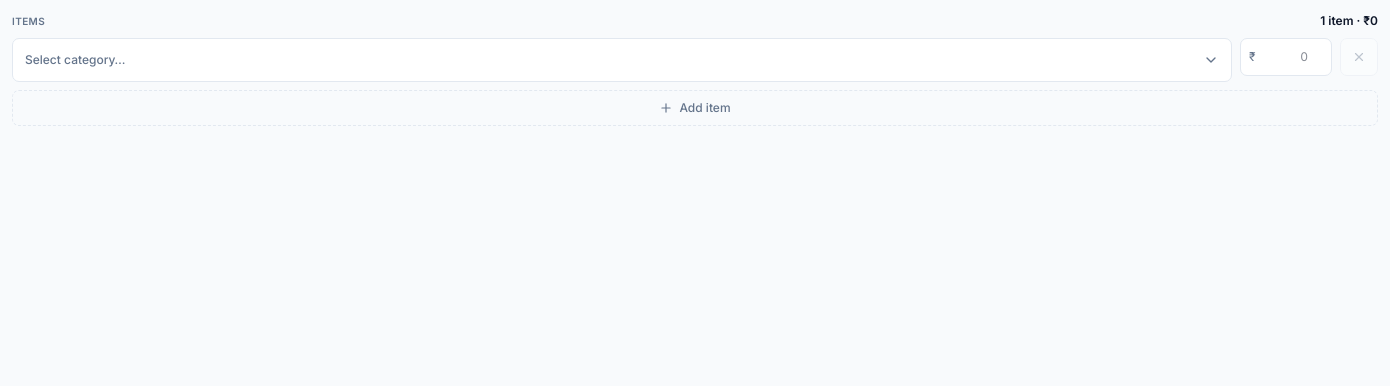
MultiItemExpenseForm — placing a new item under an existing subcategory › cancelling the "place under" step returns to the normal picker without creating anything
Click the button "Select category…" at (75,60), box 12,38 -> 1232,82
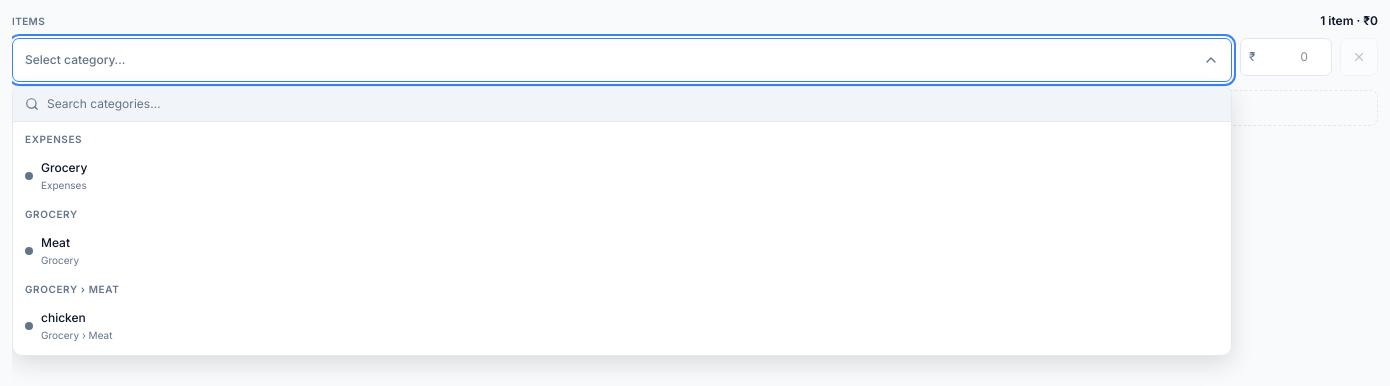
Type "egg" into the field with placeholder "Search categories…" at (633,104), box 47,95 -> 1219,113
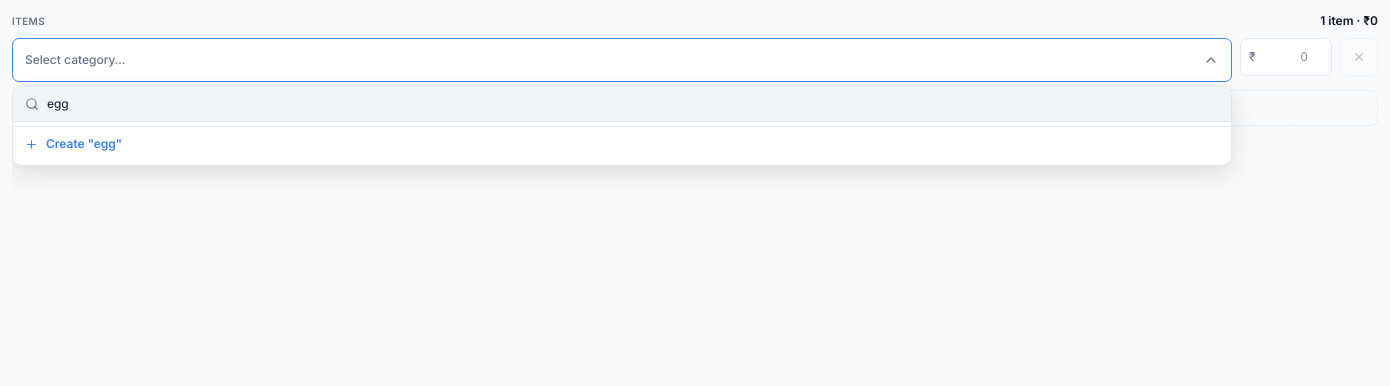
Click the button "Create \"egg\"" at (84,144), box 13,126 -> 1231,161
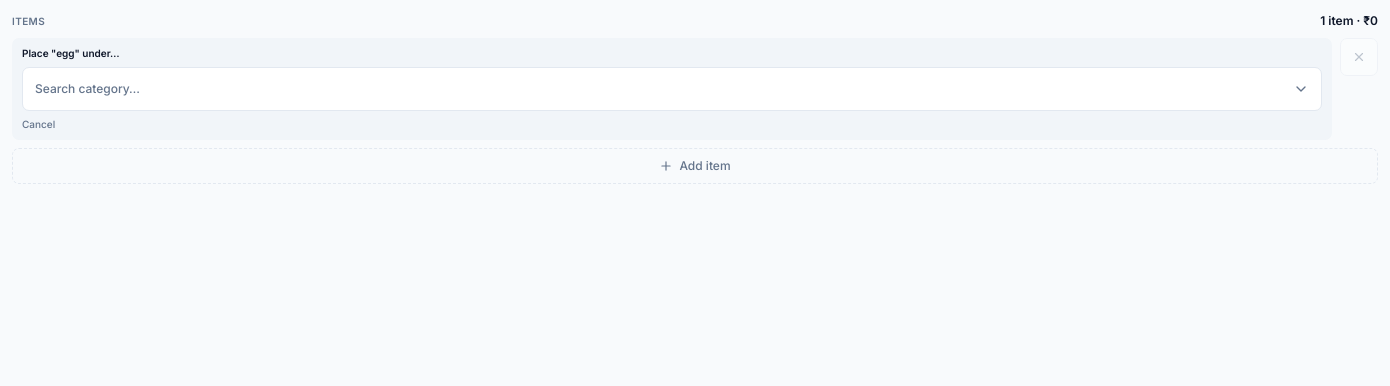
Click the button "Cancel" at (39,124), box 22,117 -> 55,132
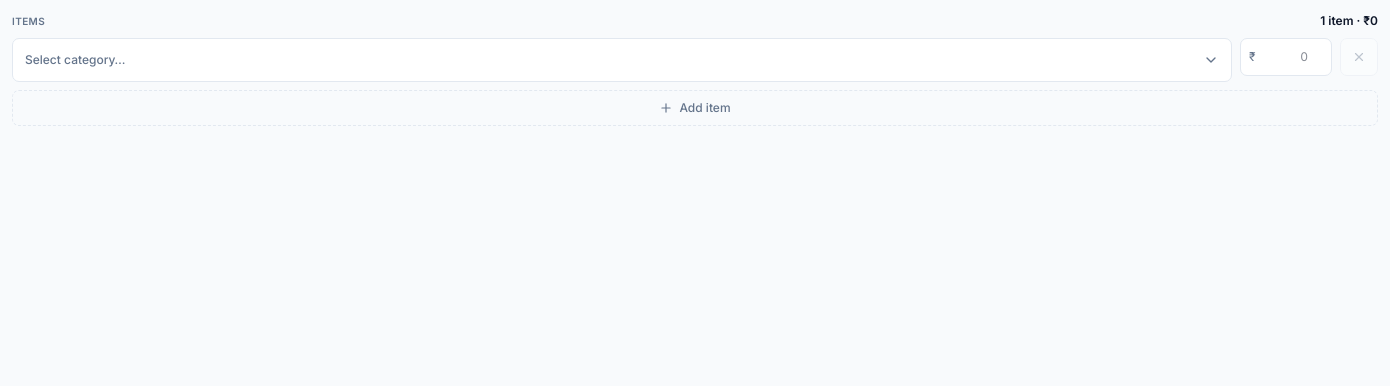
Expected: the text "Select category…" is shown, 25,51 -> 125,69
